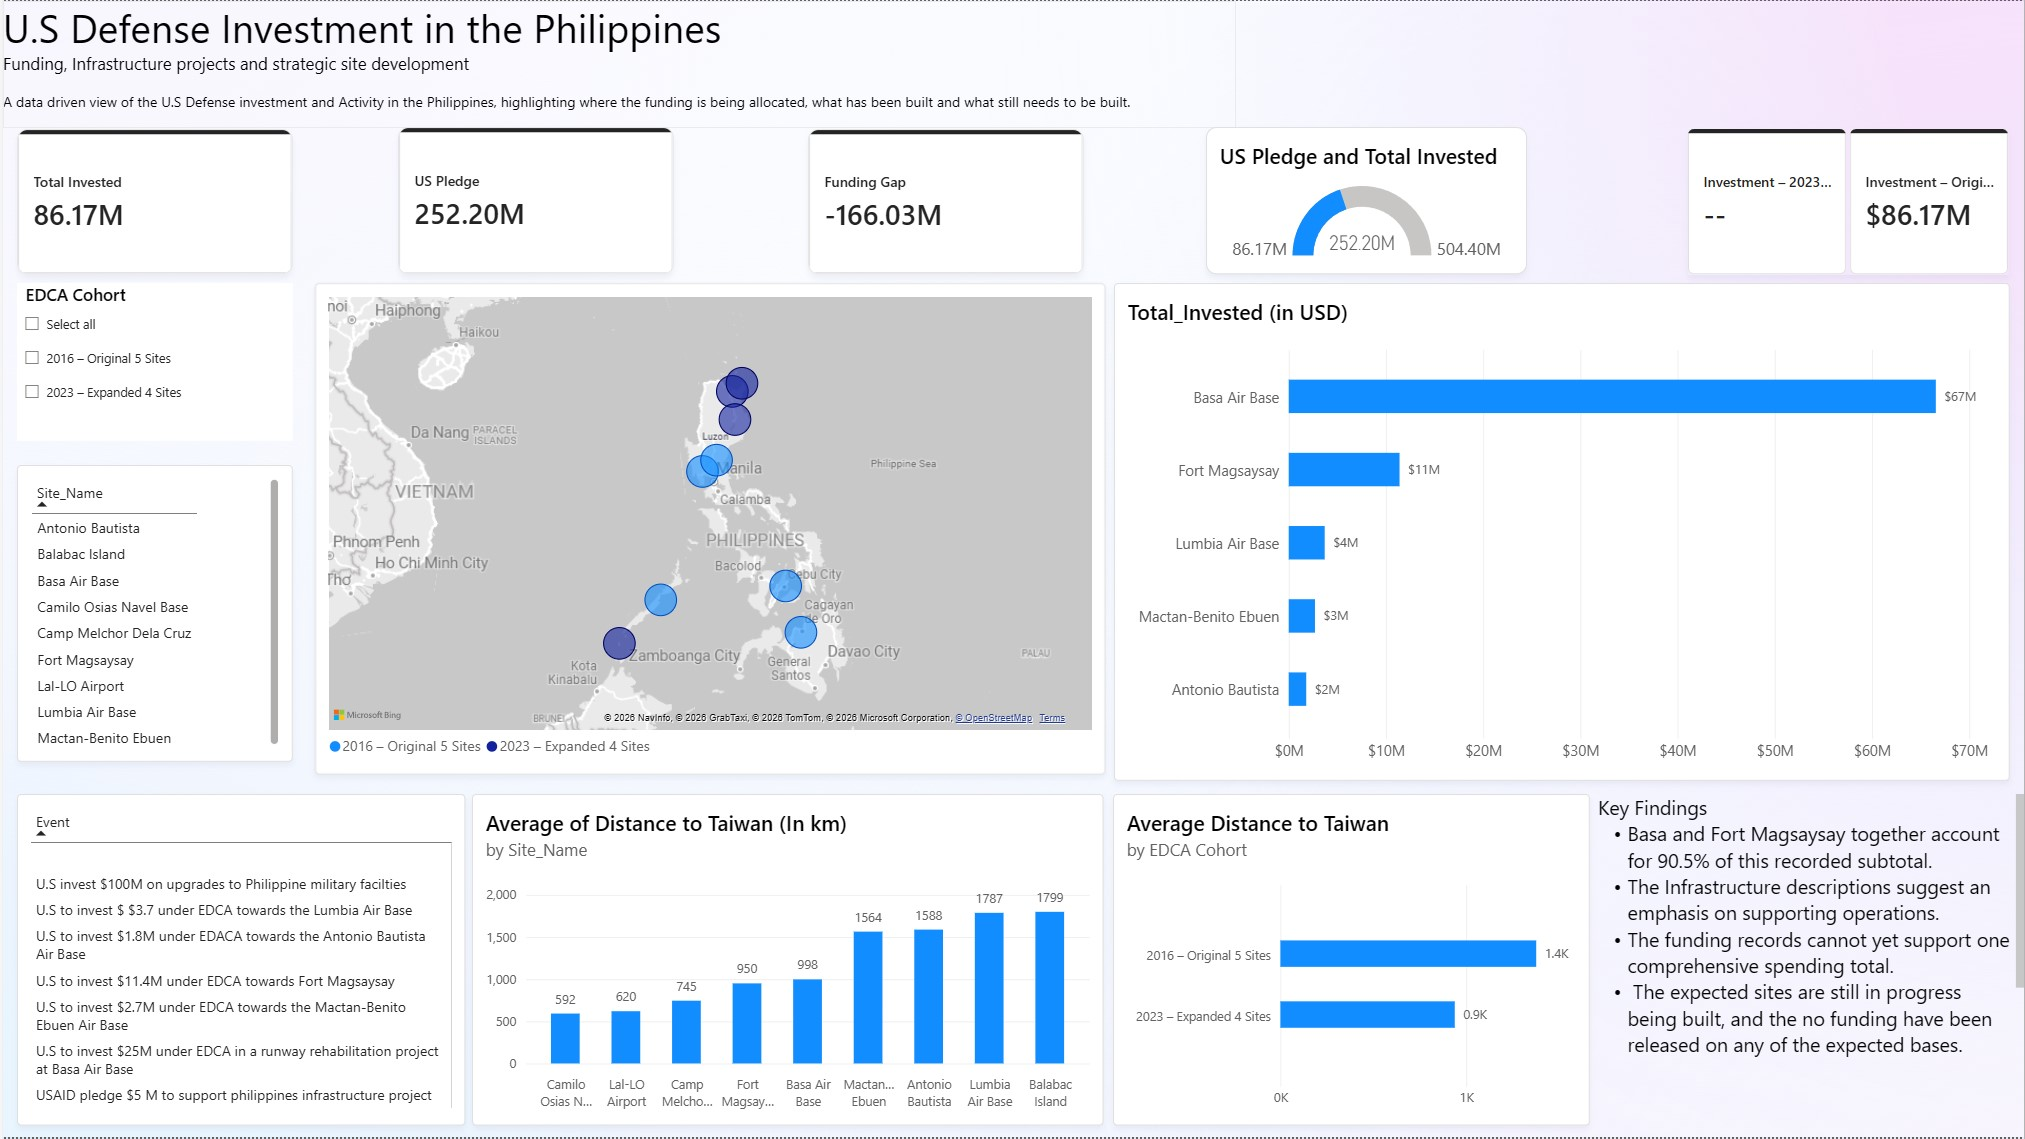

Layout of this report page (visuals, bound fields, positions):
{"tool":"powerbi","page":{"name":"Page 1","canvas":[1920,1080],"ordinal":0},"visuals":[{"type":"pivotTable","fields":{"Rows":["US Pledge Amount.Event"]},"box":[13,753,426,315],"z":0},{"type":"columnChart","fields":{"Category":["US Watchpoints_updated.Site_Name"],"Y":["Avg(US Watchpoints_updated.Distance to Taiwan (In km))"]},"box":[446,753,600,315],"z":1000},{"type":"textbox","box":[1515,753,405,315],"z":2000},{"type":"tableEx","fields":{"Values":["US Watchpoints_updated.Site_Name"]},"box":[13.1,440.8,262.4,282],"z":3000},{"type":"textbox","box":[0,0,1171,121],"z":4000},{"type":"barChart","title":"Total_Invested (in USD)","fields":{"Category":["US Watchpoints(Philippines bases investment).Site_Name"],"Y":["Sum(US Watchpoints(Philippines bases investment).Total_Invested (in USD))"]},"box":[1055.3,268,850.7,472.5],"z":5000},{"type":"gauge","fields":{"MinValue":["US Pledge Amount(2).Total Invested"],"Y":["US Pledge Amount(2).US Pledge"]},"box":[1142.9,119.7,305,140],"z":6000},{"type":"cardVisual","fields":{"Data":["US Pledge Amount(2).Unreconciled"]},"box":[764.8,121.6,262,138],"z":7000},{"type":"cardVisual","fields":{"Data":["US Pledge Amount(2).Total Invested"]},"box":[13,122,262,138],"z":8000},{"type":"barChart","fields":{"Category":["US Watchpoints_updated.EDCA Cohort"],"Y":["US Watchpoints_updated.Average Distance to Taiwan"]},"box":[1055,753,453,315],"z":10000},{"type":"cardVisual","fields":{"Data":["US Pledge Amount(2).US Pledge"]},"box":[375.3,119.7,262,140],"z":11000},{"type":"map","fields":{"Series":["US Watchpoints_updated.EDCA Cohort"],"Size":["US Pledge Amount(2).Total Invested"],"X":["US Watchpoints_updated.Longitude"],"Y":["US Watchpoints_updated.Latitude"]},"box":[296,268,750.8,466.9],"z":12000},{"type":"slicer","fields":{"Values":["US Watchpoints_updated.EDCA Cohort"]},"box":[13.1,268,262,150],"z":13000},{"type":"cardVisual","fields":{"Data":["US Watchpoints_updated.Investment – 2023 Expansion Sites","US Watchpoints_updated.Investment – Original 2016 Sites ``"]},"box":[1600.8,121.6,305,138.7],"z":13001}]}

Visuals, with their boxes in screenshot pixels (x1, y1, x2, y2), scaled from the page's 1920x1080 canvas onto the 2025x1139 screenshot:
pivotTable - US Pledge Amount.Event: <bbox>14, 794, 463, 1126</bbox>
columnChart - US Watchpoints_updated.Site_Name x Avg(US Watchpoints_updated.Distance to Taiwan (In km)): <bbox>470, 794, 1103, 1126</bbox>
textbox: <bbox>1598, 794, 2024, 1126</bbox>
tableEx - US Watchpoints_updated.Site_Name: <bbox>14, 465, 291, 762</bbox>
textbox: <bbox>0, 0, 1235, 128</bbox>
"Total_Invested (in USD)" barChart: <bbox>1113, 283, 2010, 781</bbox>
gauge - US Pledge Amount(2).Total Invested x US Pledge Amount(2).US Pledge: <bbox>1205, 126, 1527, 274</bbox>
cardVisual - US Pledge Amount(2).Unreconciled: <bbox>807, 128, 1083, 274</bbox>
cardVisual - US Pledge Amount(2).Total Invested: <bbox>14, 129, 290, 274</bbox>
barChart - US Watchpoints_updated.EDCA Cohort x US Watchpoints_updated.Average Distance to Taiwan: <bbox>1113, 794, 1590, 1126</bbox>
cardVisual - US Pledge Amount(2).US Pledge: <bbox>396, 126, 672, 274</bbox>
map - US Watchpoints_updated.EDCA Cohort x US Pledge Amount(2).Total Invested: <bbox>312, 283, 1104, 775</bbox>
slicer - US Watchpoints_updated.EDCA Cohort: <bbox>14, 283, 290, 441</bbox>
cardVisual - US Watchpoints_updated.Investment – 2023 Expansion Sites x US Watchpoints_updated.Investment – Original 2016 Sites ``: <bbox>1688, 128, 2010, 275</bbox>
